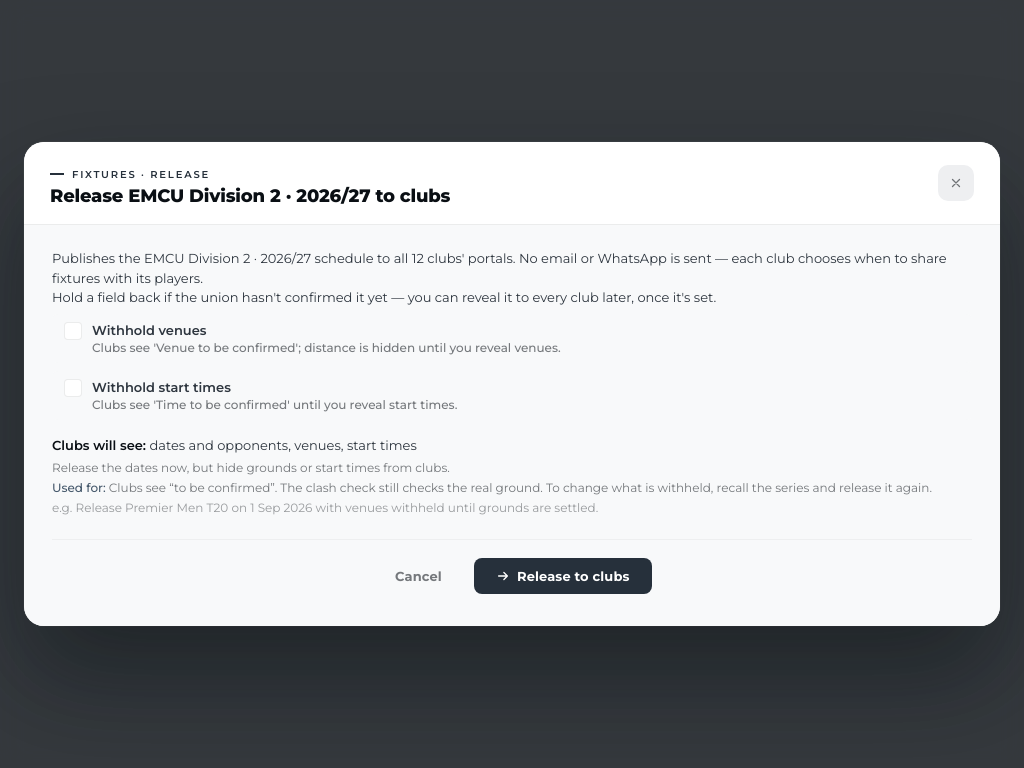
Test case: ReleaseDialog — failure stays open (ADR 0011) › swaps the plain version-conflict boilerplate for the friendly refresh copy
Step 1. Click the button "Release to clubs" → click(562, 576), box [474, 558, 651, 594]
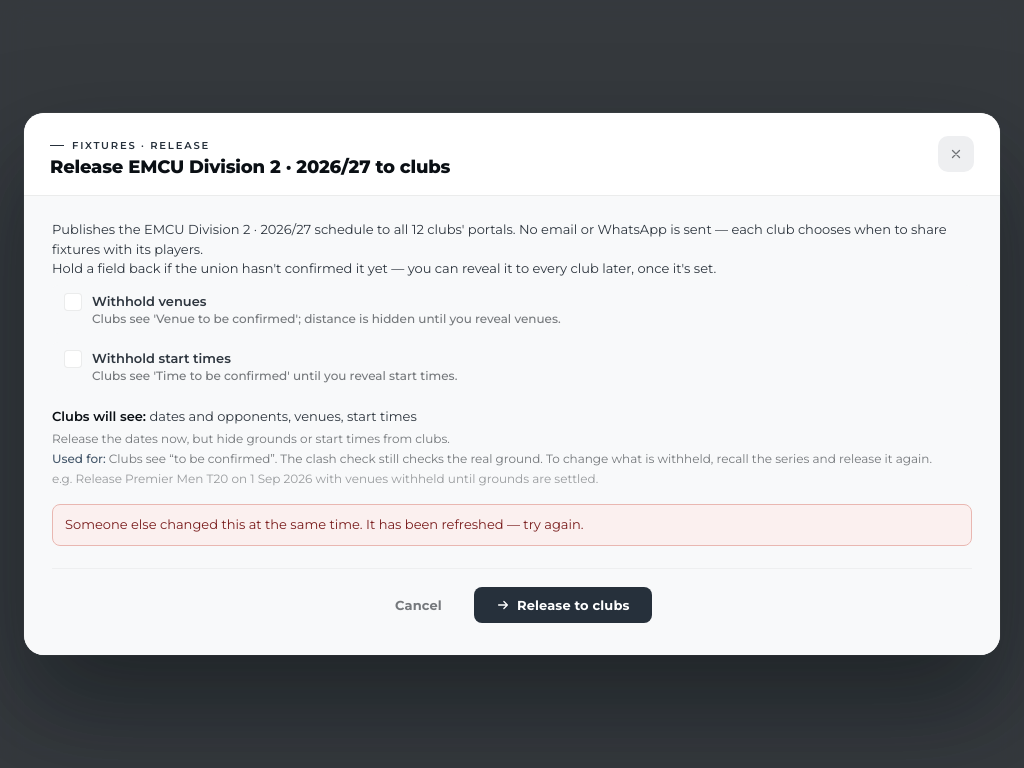
Now the text "Someone else changed this at the same time. It has been refreshed — try again." is shown, box [52, 504, 972, 546]
